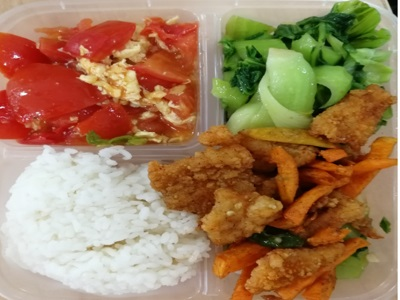cyc: (232, 20, 364, 101)
jdxhs: (9, 24, 189, 137)
r5: (207, 134, 381, 291)
rice: (10, 156, 172, 286)
